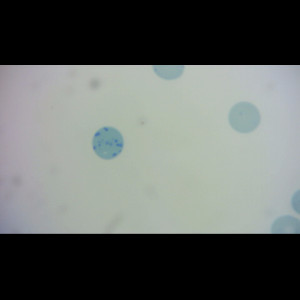aggregate reticulocyte: (90, 125, 125, 161)
punctate reticulocyte: (227, 99, 263, 134)
